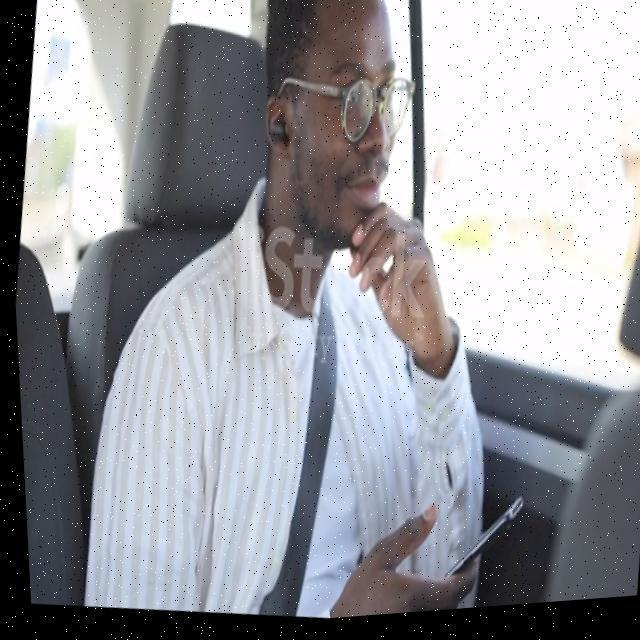PhoneCall: (418, 492, 522, 609)
